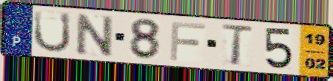5: (264, 28, 294, 71)
8: (128, 17, 162, 61)
F: (168, 20, 207, 63)
N: (75, 12, 115, 58)
T: (219, 23, 255, 67)
U: (32, 9, 73, 54)
